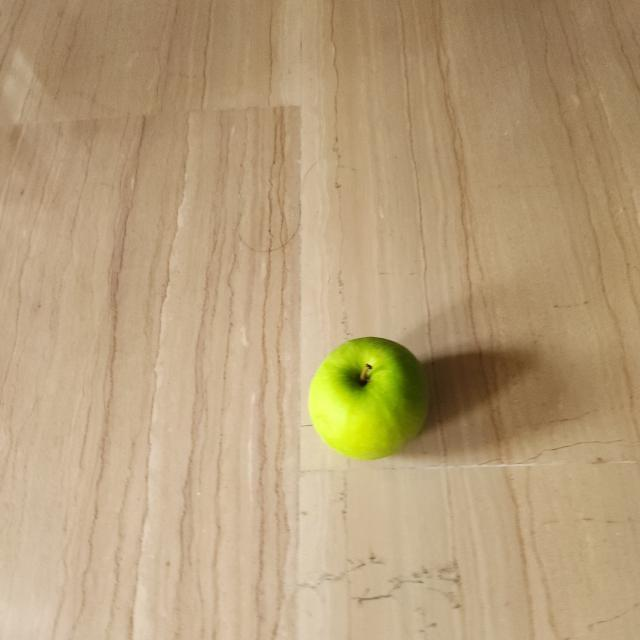apple: (295, 332, 445, 468)
